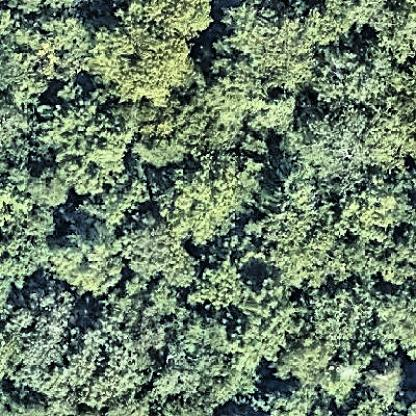tree-top: (84, 20, 198, 107), (43, 89, 144, 185), (259, 184, 347, 286), (152, 154, 255, 241), (234, 5, 336, 88), (186, 85, 293, 159), (292, 94, 372, 182), (112, 210, 201, 286), (81, 317, 156, 405), (3, 286, 84, 364), (156, 310, 223, 395), (1, 183, 59, 280), (45, 216, 120, 291), (24, 11, 94, 87), (232, 284, 299, 363), (332, 1, 416, 62), (313, 290, 377, 362), (295, 345, 371, 404), (111, 1, 222, 39), (322, 40, 392, 99), (349, 182, 409, 246), (367, 286, 416, 363), (365, 102, 416, 167), (200, 253, 255, 313), (1, 98, 43, 172), (359, 360, 404, 407), (248, 391, 314, 416)
